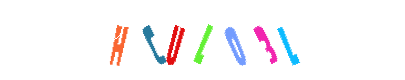0: (176, 0, 256, 80)
3: (195, 0, 275, 80)
C: (134, 0, 214, 80)
H: (88, 0, 168, 80)
L: (163, 0, 243, 80), (225, 0, 305, 80)
U: (162, 0, 242, 80)
